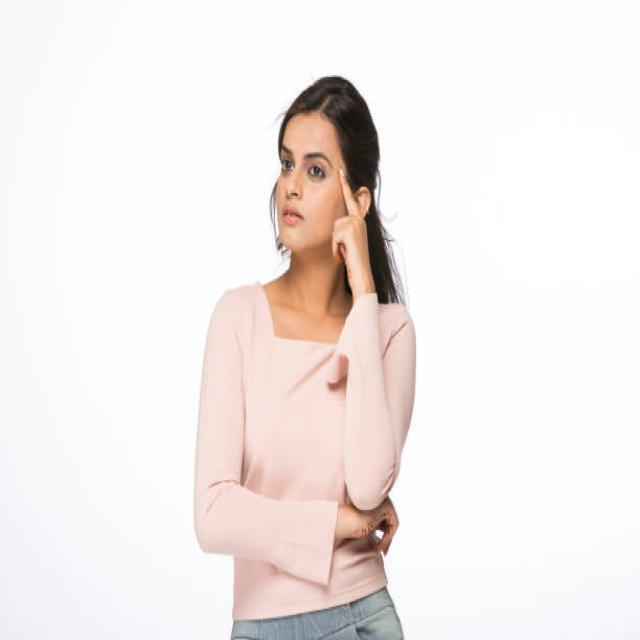Looking away: (276, 117, 340, 251)
